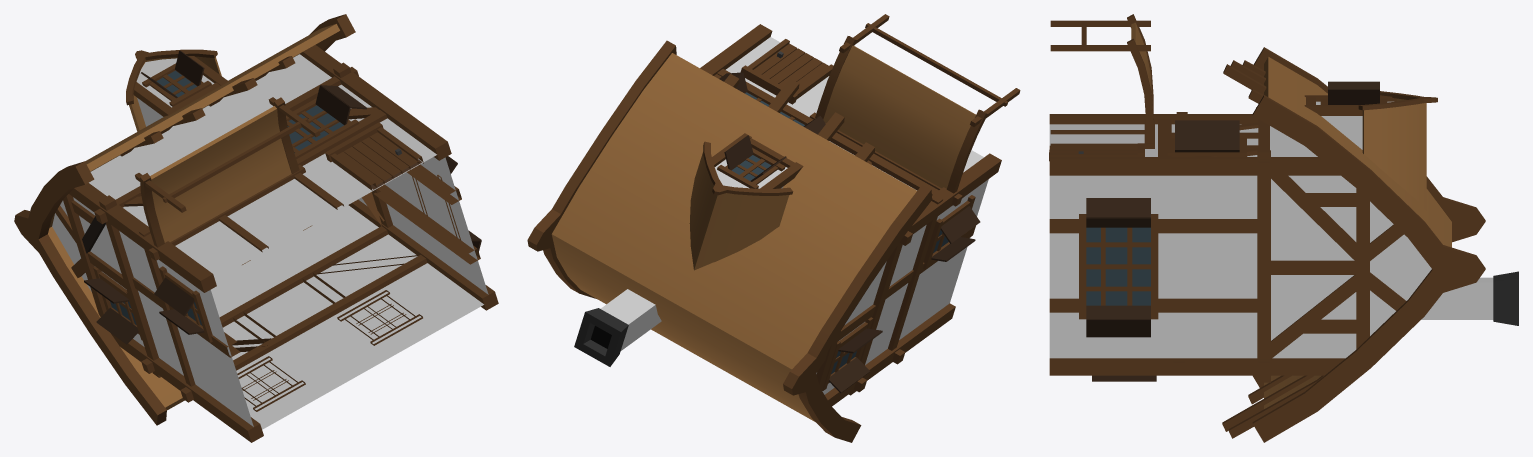
File: medhouse1.obj
3 renders of one model, left to right at view 1: azimuth 30°, elevation 25°; view 2: azimuth 150°, elevation 25°; view 3: azimuth 270°, elevation 25°, orthographic. The views are drawn at different scales.
Parts seen in each view (by area): view 1: pCube1232_Untitled.312; view 2: pCube1232_Untitled.312; view 3: pCube1232_Untitled.312.
Boxes of the visible parts, <box> form: pCube1232_Untitled.312: <box>14,14,498,442</box>; pCube1232_Untitled.312: <box>527,14,1020,442</box>; pCube1232_Untitled.312: <box>1049,14,1518,442</box>.
Bounding box in the file's own units: 1193 × 1184 × 1269.
